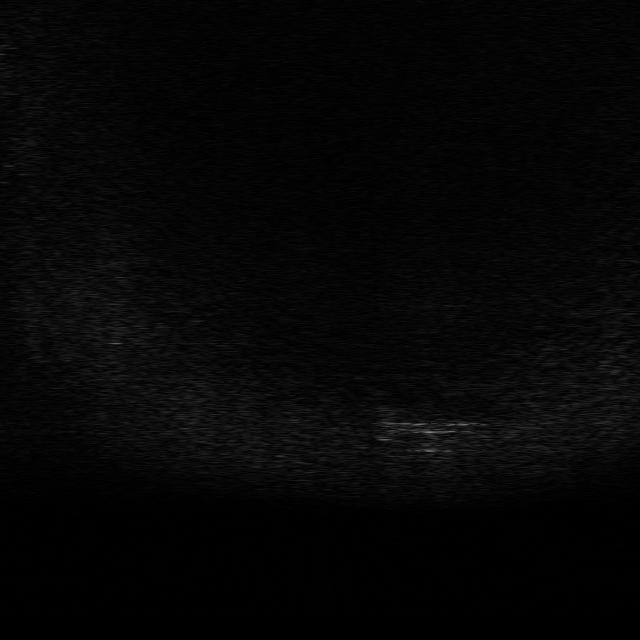plane: (372, 408, 488, 454)
